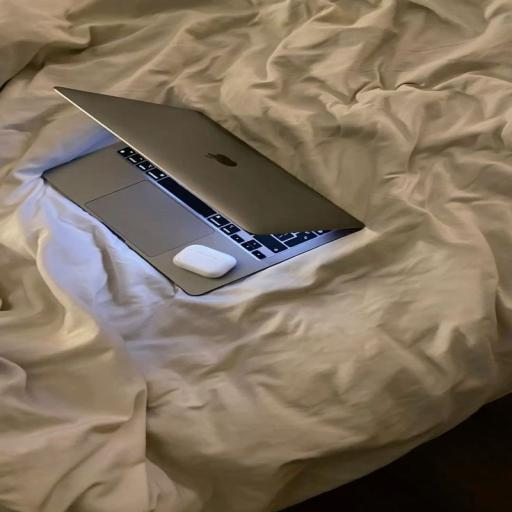glass_wall: (43, 88, 363, 295)
person: (0, 0, 511, 512)
